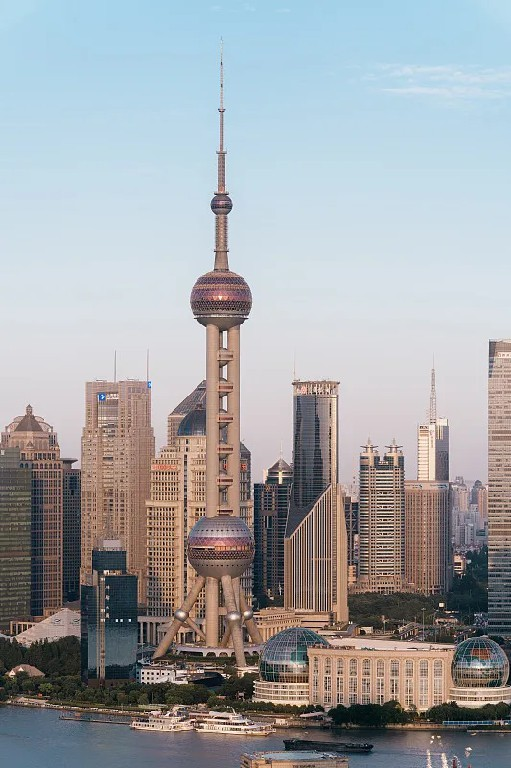Oriental: (152, 43, 262, 667)
